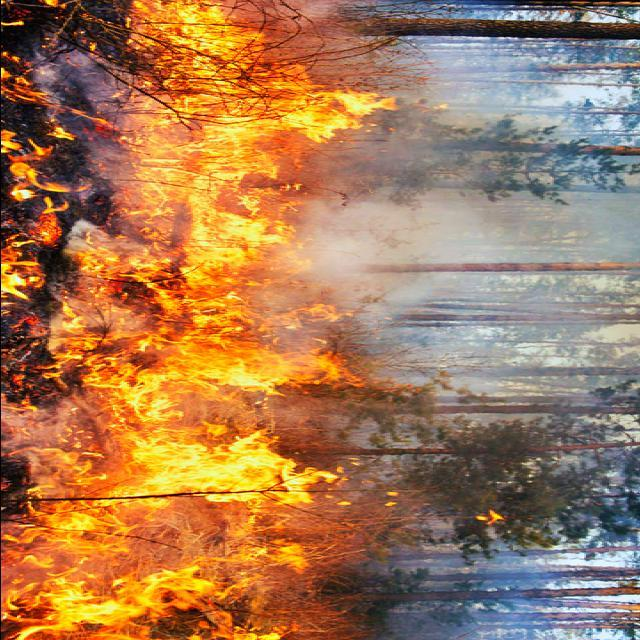Fire: (1, 2, 394, 640)
